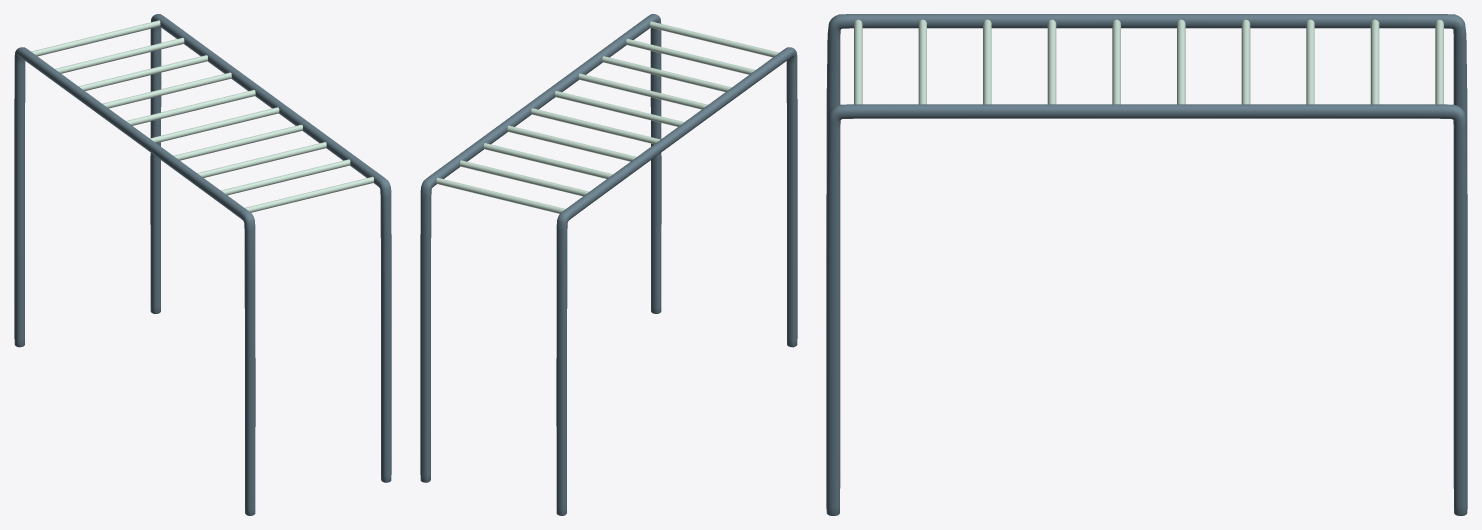
File: Moneky Bar.fbx
The picture shows the model from 3 angles, left to right: view 1: azimuth 30°, elevation 25°; view 2: azimuth 150°, elevation 25°; view 3: azimuth 270°, elevation 25°; orthographic projection. The views are drawn at different scales.
Parts seen in each view (by area): view 1: Cube.002, Cube.001, Cylinder.001; view 2: Cube.002, Cube.001, Cylinder.001; view 3: Cube.001, Cube.002, Cylinder.001.
Boxes of the visible parts, x1,y1,x2,y2 form: Cube.002: (14, 47, 255, 515); Cube.001: (150, 14, 391, 482); Cylinder.001: (31, 20, 373, 212); Cube.002: (556, 47, 797, 515); Cube.001: (420, 14, 661, 482); Cylinder.001: (436, 21, 778, 213); Cube.001: (826, 104, 1467, 515); Cube.002: (826, 14, 1467, 284); Cylinder.001: (854, 19, 1443, 104).
Size of the model in its own units: 219 by 431 by 613.
